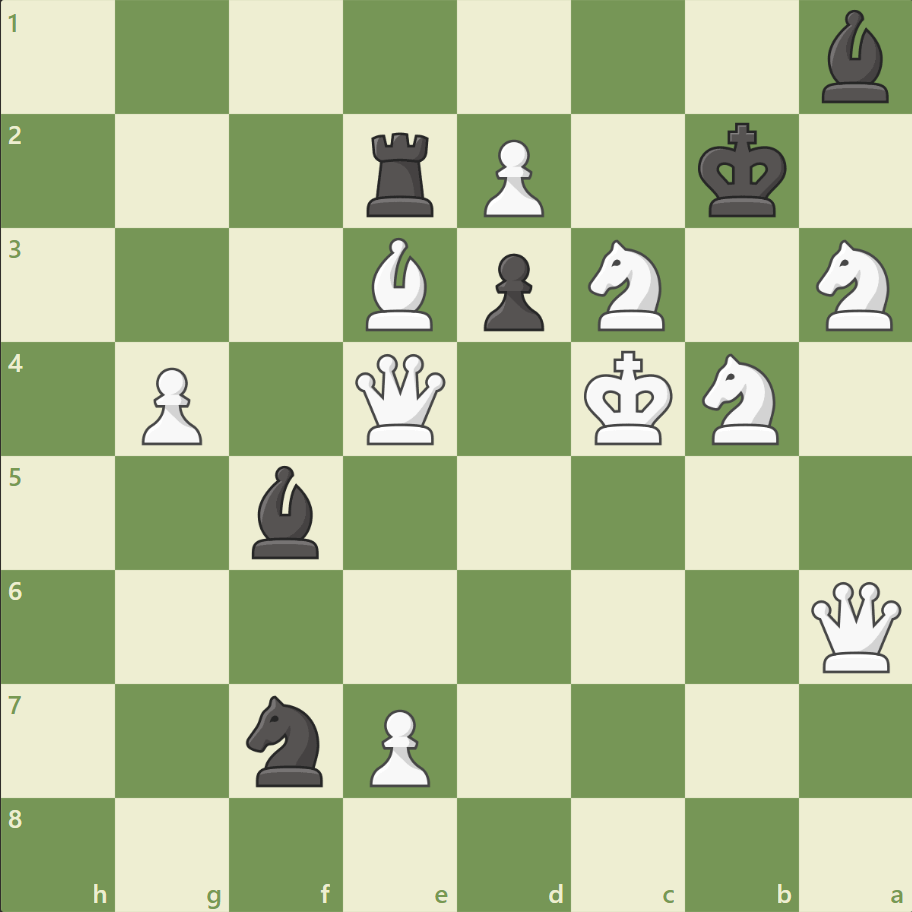B: (358, 233, 442, 336)
K: (579, 344, 679, 452)
N: (806, 234, 903, 337), (579, 234, 676, 337), (692, 348, 789, 450)
P: (133, 359, 208, 450), (474, 132, 549, 223), (361, 700, 435, 791)
Q: (805, 576, 904, 676), (351, 349, 450, 449)
b: (244, 460, 328, 563), (812, 6, 896, 109)
k: (692, 117, 792, 225)
n: (238, 688, 335, 791)
p: (474, 246, 549, 337)
r: (360, 125, 442, 222)
